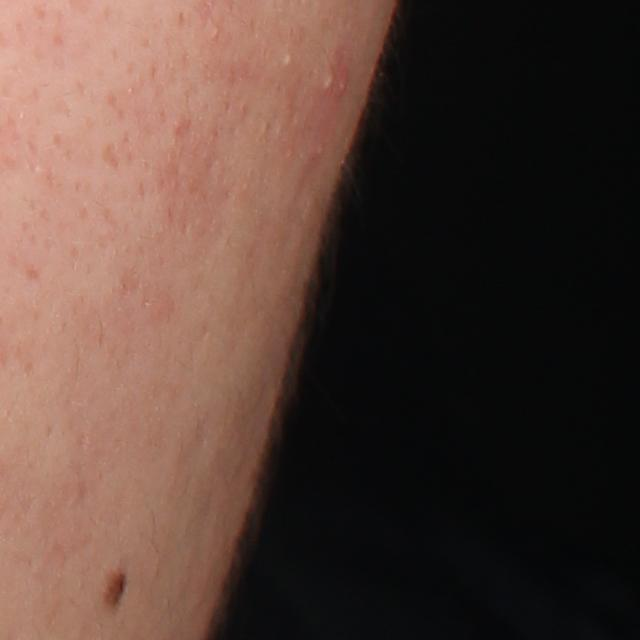atrophic_scar: (103, 140, 118, 172)
comedo: (282, 52, 296, 67)
nevus: (100, 569, 130, 610)
